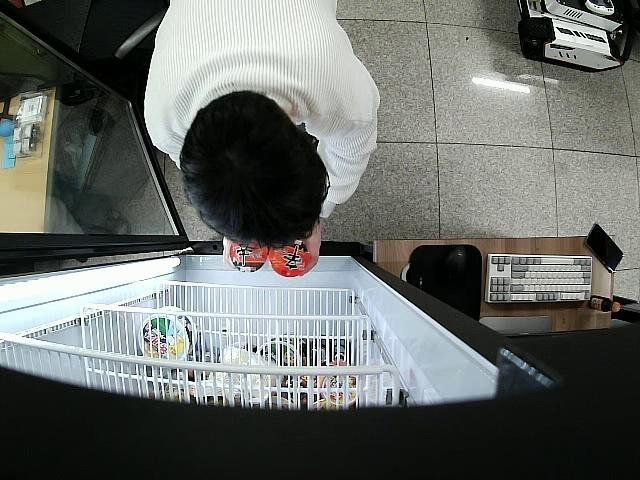02_shinRamen_S: (269, 241, 310, 276), (230, 242, 267, 271)
